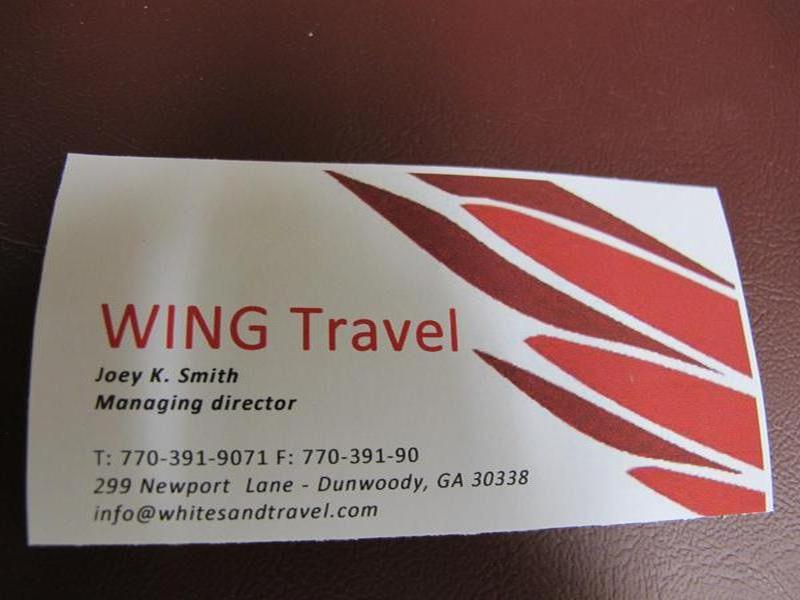card: (24, 140, 777, 546)
